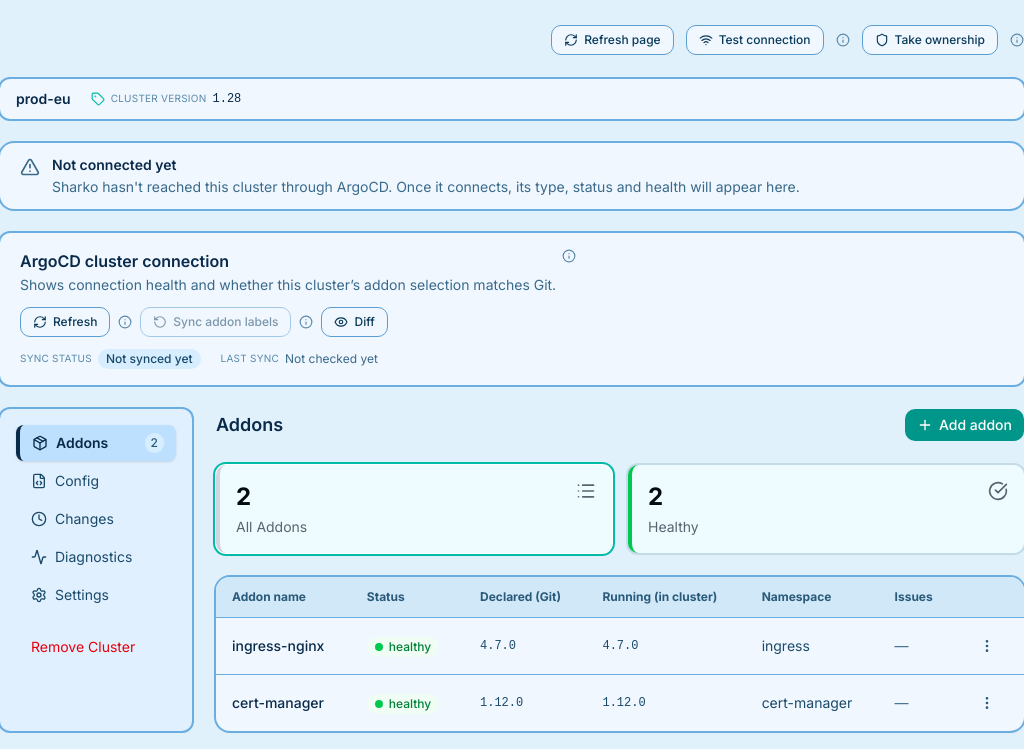
Test: ClusterDetail - V3-AM1 (one list + discoverable remove + "Add addon" LW-22) › clicking Undo clears the staged pending-remove (top strip disappears)
Check: the link "ingress-nginx" is shown, box [232, 636, 324, 656]
# W10 (V3 RW1.4): stage a remove via the row-actions kebab.
Click the button named "actions for ingress-nginx". click: coordinates (987, 646)
box: [971, 630, 1003, 662]
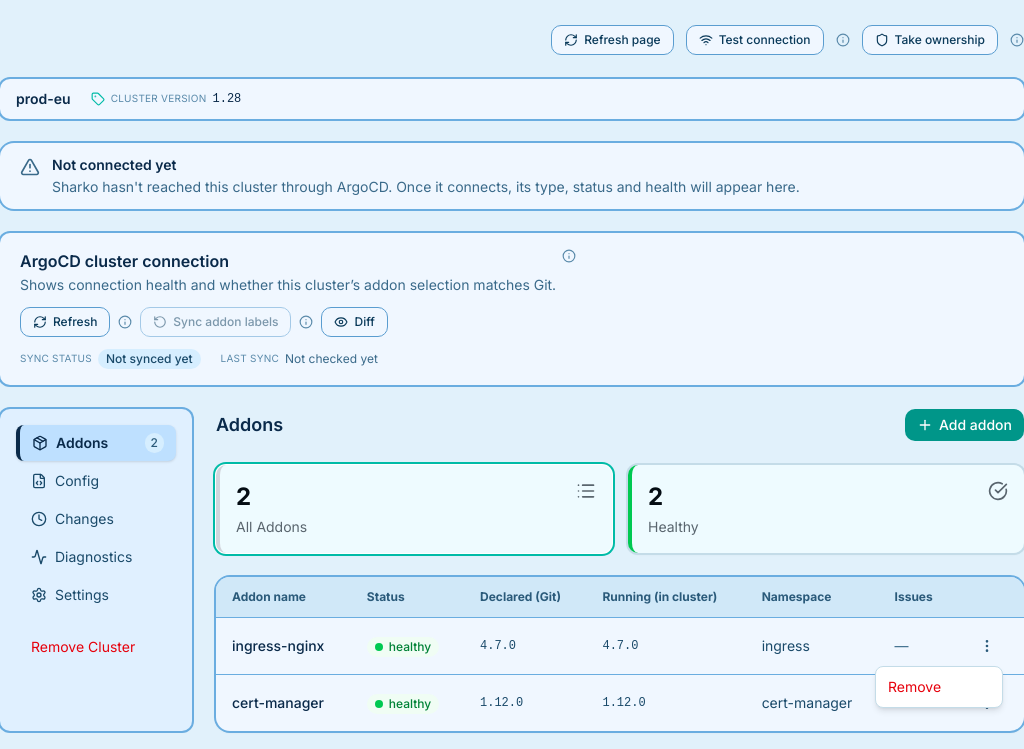
Click the menu item "Remove". click: coordinates (915, 686)
box: [888, 678, 941, 695]
(page scrolled)
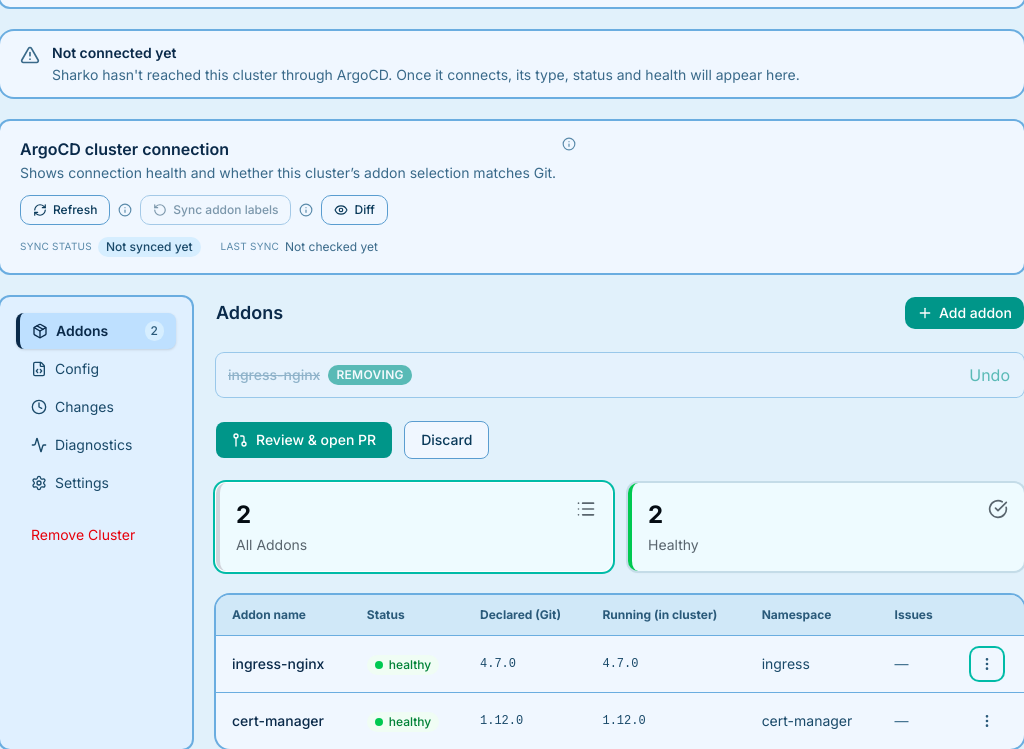
Check: the text "removing" is shown, box [328, 365, 412, 385]
# Click Undo
Click the button "Undo". click: coordinates (990, 375)
box: [967, 361, 1012, 389]
(page scrolled)
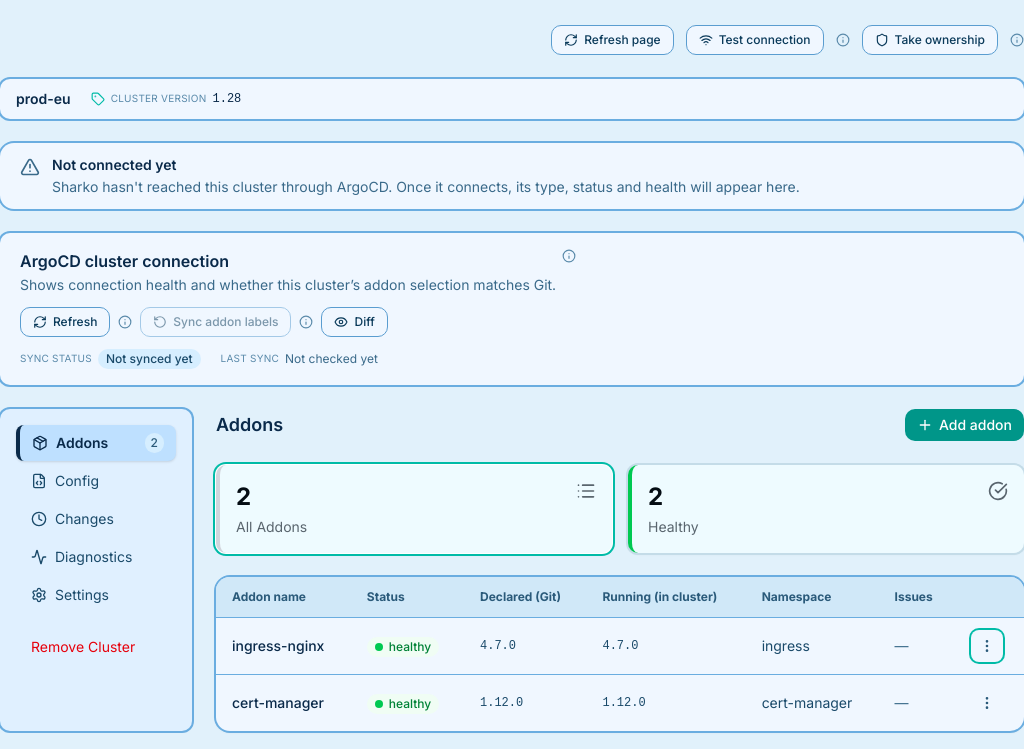
Check: the text "removing" is gone
Check: the button "Review & open PR" is gone
Check: the button "Discard" is gone
